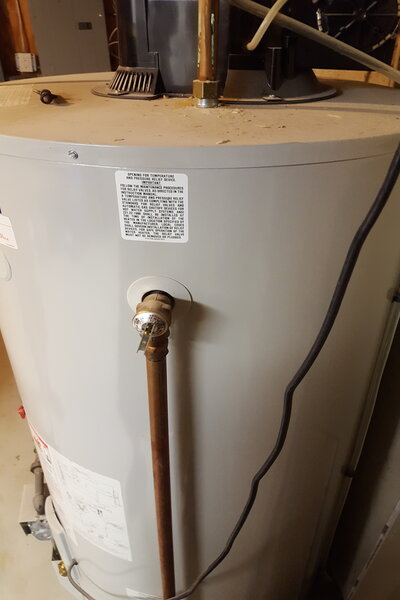valve: (131, 290, 176, 363)
